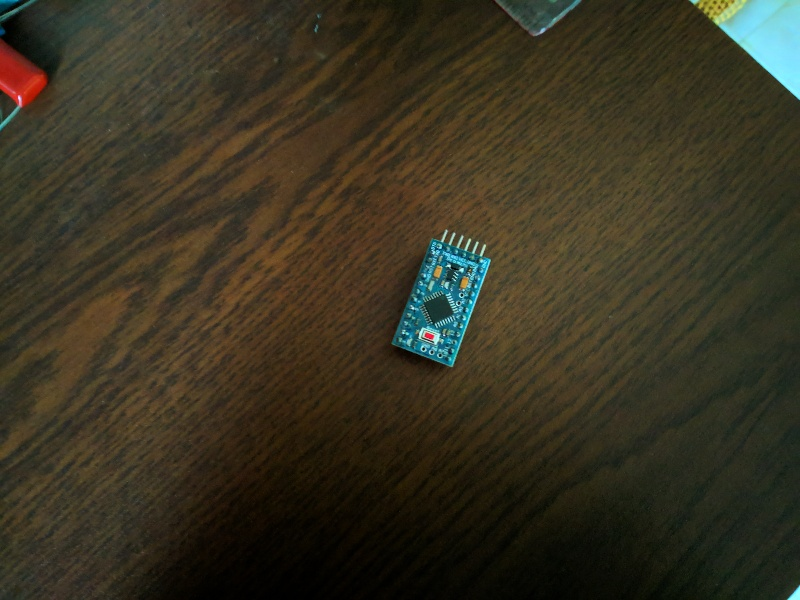Arduino Pro Mini: (382, 236, 491, 371)
